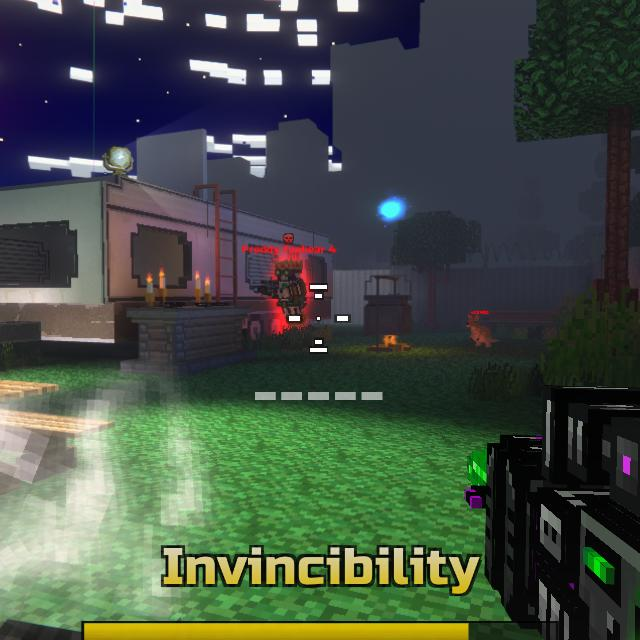Enemy: (267, 260, 308, 331)
